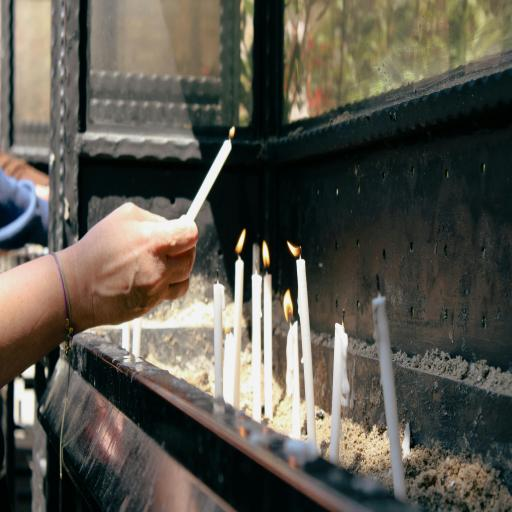candlelight: (283, 224, 323, 449), (228, 224, 248, 403), (255, 232, 272, 416)
